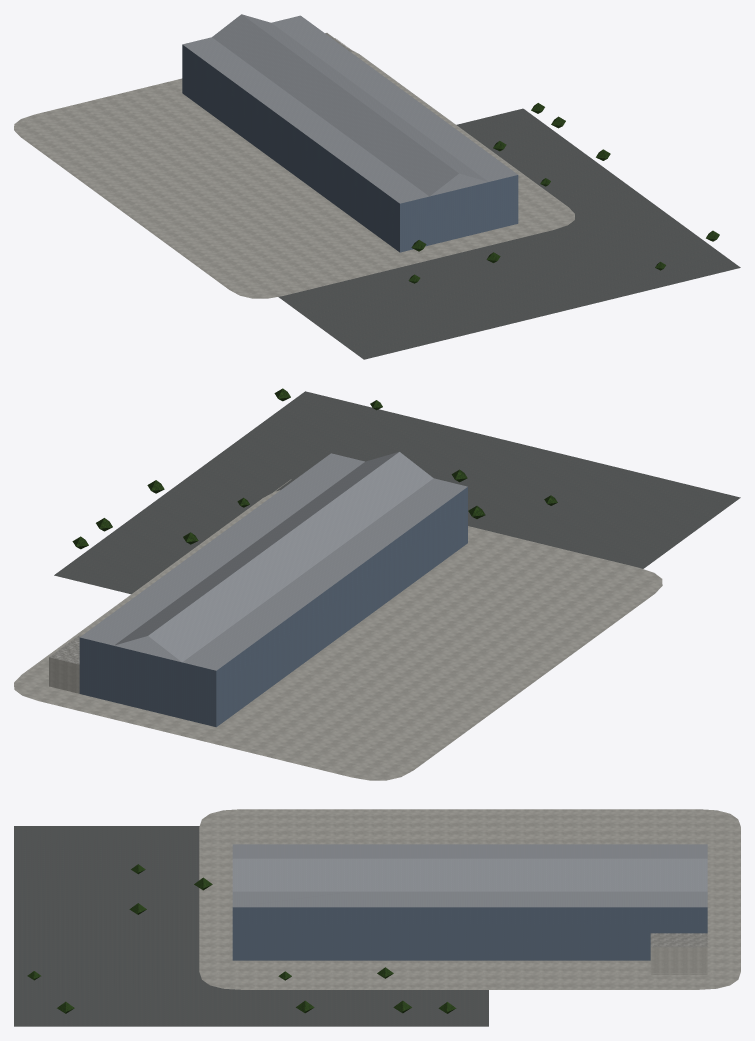
The model's file is cidade_S06_04_lod.gltf.
3 renders of one model, top to bottom at view 1: azimuth 30°, elevation 25°; view 2: azimuth 150°, elevation 25°; view 3: azimuth 270°, elevation 25°, orthographic. The views are drawn at different scales.
Visible parts, largest first — view 1: S06_04_Chao_LOD2, S06_04_Silhueta_LOD2, S06_04_Edificios_LOD1, S06_04_Vegetacao_LOD2; view 2: S06_04_Chao_LOD2, S06_04_Silhueta_LOD2, S06_04_Edificios_LOD1, S06_04_Vegetacao_LOD2; view 3: S06_04_Chao_LOD2, S06_04_Silhueta_LOD2, S06_04_Edificios_LOD1, S06_04_Vegetacao_LOD2.
Boxes of the visible parts, box(x1,y1,x2,y2) form: S06_04_Chao_LOD2: box(14, 49, 740, 359); S06_04_Silhueta_LOD2: box(182, 15, 518, 251); S06_04_Edificios_LOD1: box(182, 14, 569, 252); S06_04_Vegetacao_LOD2: box(408, 103, 719, 283); S06_04_Chao_LOD2: box(14, 391, 740, 780); S06_04_Silhueta_LOD2: box(79, 453, 467, 726); S06_04_Edificios_LOD1: box(20, 452, 467, 727); S06_04_Vegetacao_LOD2: box(72, 388, 557, 549); S06_04_Chao_LOD2: box(14, 809, 740, 1026); S06_04_Silhueta_LOD2: box(232, 844, 707, 960); S06_04_Edificios_LOD1: box(214, 858, 726, 974); S06_04_Vegetacao_LOD2: box(27, 864, 456, 1013).
Size of the model in its own units: 109 by 16.57 by 153.
7 materials, 7 textured.
